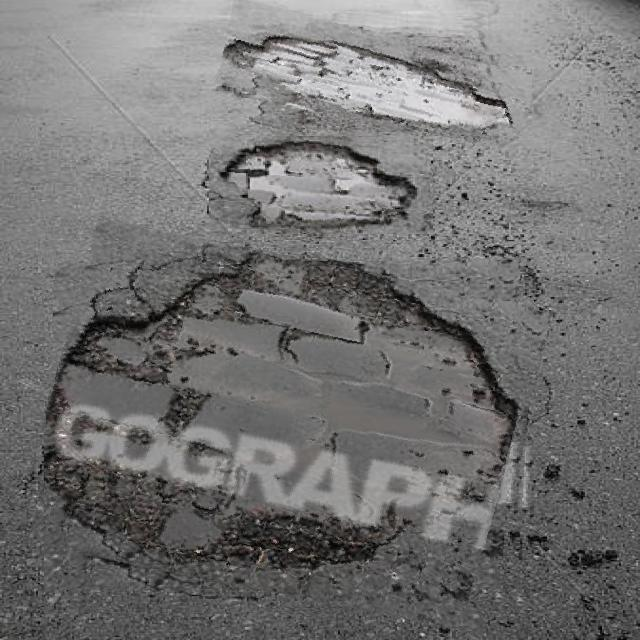Pothole: (44, 240, 538, 614), (218, 13, 532, 136), (211, 128, 433, 234)
